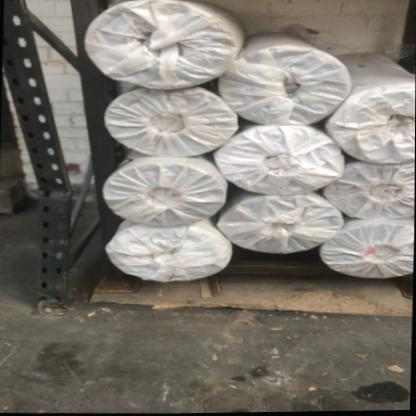vertical_damage: (10, 120, 80, 245)
